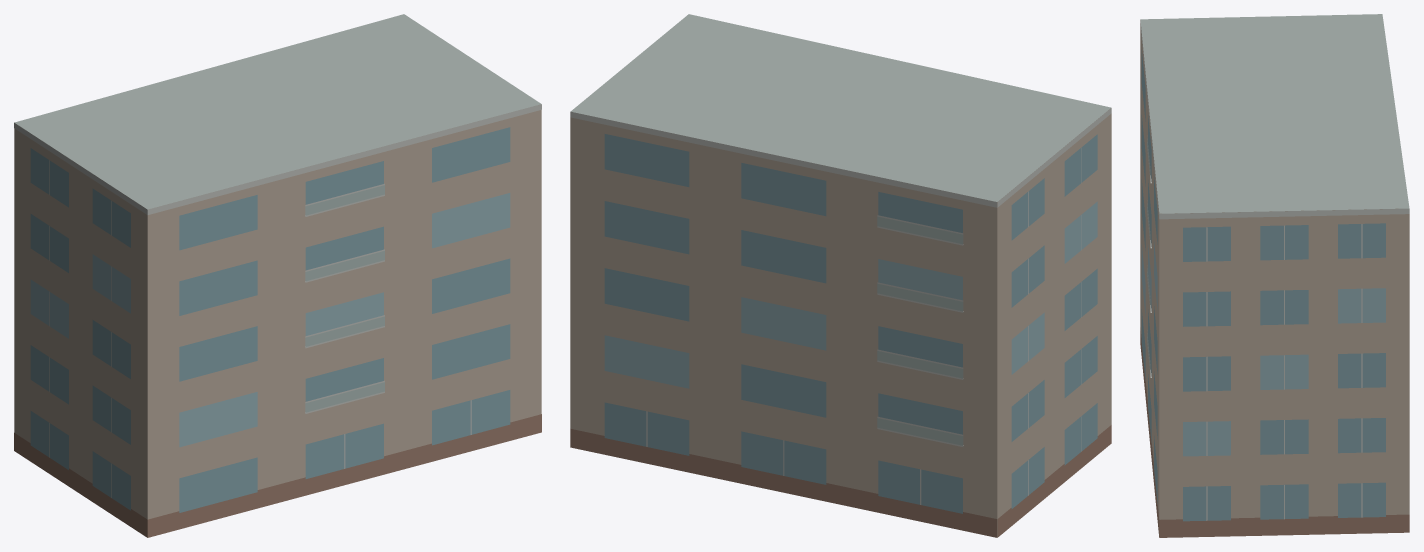
File: survey-upis-32708722.glb
The picture shows the model from 3 angles, left to right: view 1: azimuth 30°, elevation 25°; view 2: azimuth 150°, elevation 25°; view 3: azimuth 270°, elevation 25°; orthographic projection. The views are drawn at different scales.
Visible parts, largest first — view 1: survey-upis-32708722.tmp; view 2: survey-upis-32708722.tmp; view 3: survey-upis-32708722.tmp.
Boxes of the visible parts, <box> form: survey-upis-32708722.tmp: <box>14,14,541,537</box>; survey-upis-32708722.tmp: <box>570,14,1111,537</box>; survey-upis-32708722.tmp: <box>1140,14,1409,537</box>.
Bounding box in the file's own units: 18.78 × 14.2 × 10.7.
